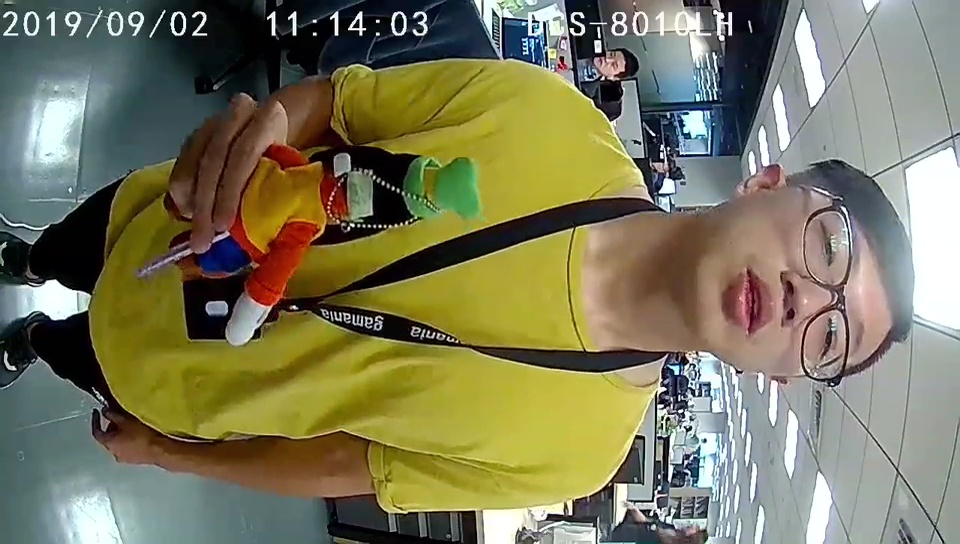goofy: (233, 148, 481, 346)
